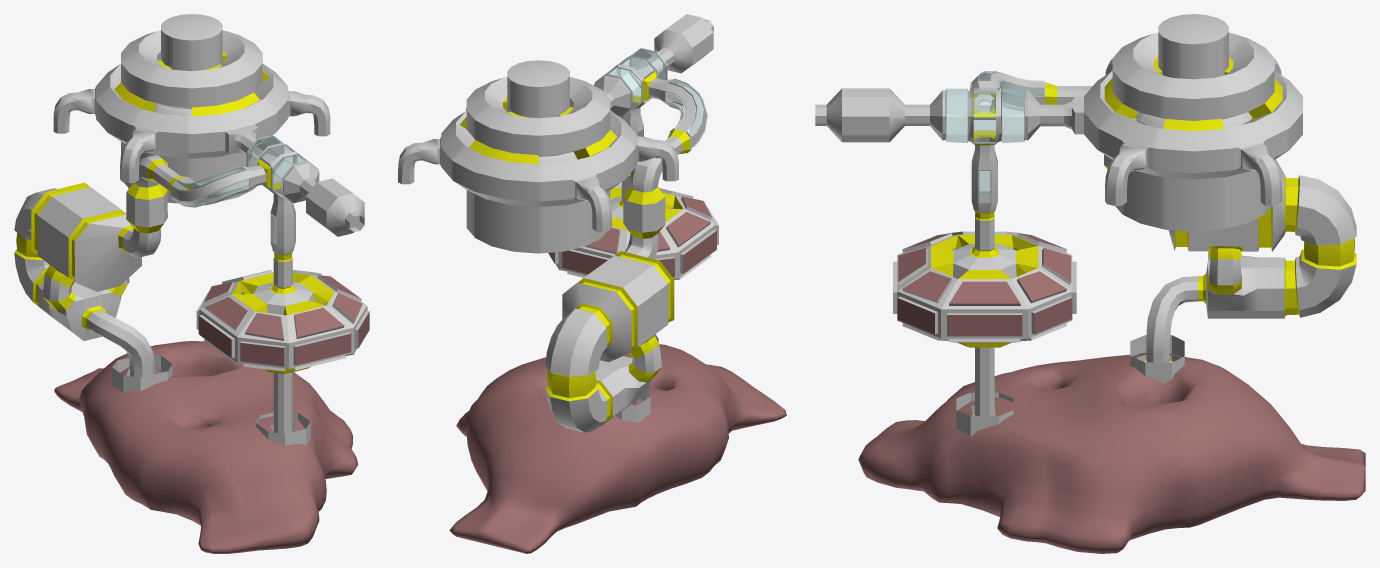
The model's file is LevelInteriorMesh.fbx.
3 views of the same model, side by side, from view 1: azimuth 30°, elevation 25°; view 2: azimuth 150°, elevation 25°; view 3: azimuth 270°, elevation 25° (orthographic). The views are drawn at different scales.
Visible parts, largest first — view 1: level_room_cave, level_room_boss, level_room_reactor, level_room_u, level_corridor_main_u, level_room_main, level_corridor_u_cave, level_corridor_reactor_cave, level_corridor_main_reactor; view 2: level_room_cave, level_room_boss, level_room_u, level_room_reactor, level_corridor_main_u, level_room_main, level_corridor_u_cave, level_corridor_main_reactor; view 3: level_room_cave, level_room_boss, level_room_reactor, level_room_u, level_room_main, level_corridor_u_cave, level_corridor_main_u, level_corridor_main_reactor, level_corridor_reactor_cave.
Part boxes in pixels (x1=…): level_room_cave: x1=54, y1=341, x2=358, y2=553; level_room_boss: x1=53, y1=14, x2=330, y2=203; level_room_reactor: x1=196, y1=269, x2=369, y2=373; level_room_u: x1=14, y1=182, x2=141, y2=340; level_corridor_main_u: x1=118, y1=154, x2=265, y2=257; level_room_main: x1=246, y1=135, x2=364, y2=236; level_corridor_u_cave: x1=82, y1=306, x2=172, y2=392; level_corridor_reactor_cave: x1=256, y1=372, x2=310, y2=445; level_corridor_main_reactor: x1=270, y1=188, x2=295, y2=287; level_room_cave: x1=449, y1=344, x2=786, y2=553; level_room_boss: x1=398, y1=60, x2=678, y2=253; level_room_u: x1=545, y1=251, x2=674, y2=432; level_room_reactor: x1=548, y1=184, x2=718, y2=279; level_corridor_main_u: x1=623, y1=78, x2=707, y2=259; level_room_main: x1=594, y1=14, x2=713, y2=116; level_corridor_u_cave: x1=616, y1=356, x2=650, y2=422; level_corridor_main_reactor: x1=620, y1=101, x2=643, y2=200; level_room_cave: x1=858, y1=352, x2=1365, y2=553; level_room_boss: x1=1040, y1=14, x2=1302, y2=231; level_room_reactor: x1=893, y1=231, x2=1076, y2=347; level_room_u: x1=1168, y1=159, x2=1356, y2=318; level_room_main: x1=815, y1=88, x2=1040, y2=145; level_corridor_u_cave: x1=1130, y1=273, x2=1206, y2=383; level_corridor_main_u: x1=970, y1=71, x2=1111, y2=168; level_corridor_main_reactor: x1=971, y1=137, x2=997, y2=250; level_corridor_reactor_cave: x1=956, y1=347, x2=1013, y2=436.
Size of the model in its own units: 86.25 by 137 by 146.
